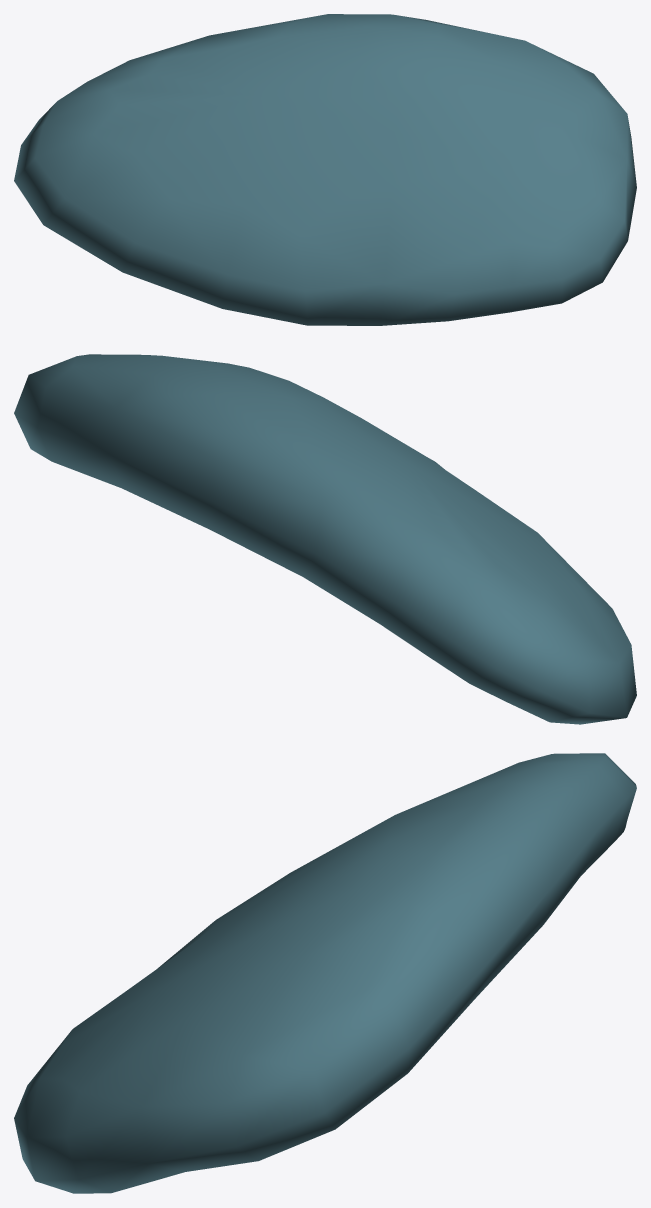
Rendered from Extensor_digitorum_longus_&_brevis_on_4th_distal_phalanx.r_Gene.glb.
3 views of the same model, one above another, from view 1: azimuth 30°, elevation 25°; view 2: azimuth 150°, elevation 25°; view 3: azimuth 270°, elevation 25° (orthographic). The views are drawn at different scales.
Parts seen in each view (by area): view 1: Extensor_digitorum_longus_&_brevis_on_4th_distal_phalanx.r_G; view 2: Extensor_digitorum_longus_&_brevis_on_4th_distal_phalanx.r_G; view 3: Extensor_digitorum_longus_&_brevis_on_4th_distal_phalanx.r_G.
Boxes of the visible parts, left/top/right/bottom form: Extensor_digitorum_longus_&_brevis_on_4th_distal_phalanx.r_G: left=14, top=14, right=636, bottom=325; Extensor_digitorum_longus_&_brevis_on_4th_distal_phalanx.r_G: left=14, top=354, right=636, bottom=724; Extensor_digitorum_longus_&_brevis_on_4th_distal_phalanx.r_G: left=14, top=753, right=636, bottom=1193.
Bounding box in the file's own units: 0.0036 × 0.00137 × 0.00267.
